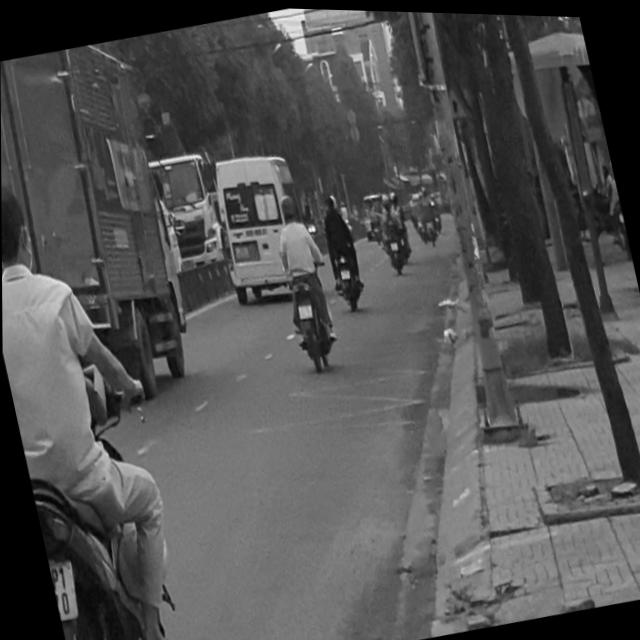licenseplate: (1, 157, 205, 640)
motorcyclist: (1, 178, 39, 282)
nohelmet: (47, 557, 78, 616)
